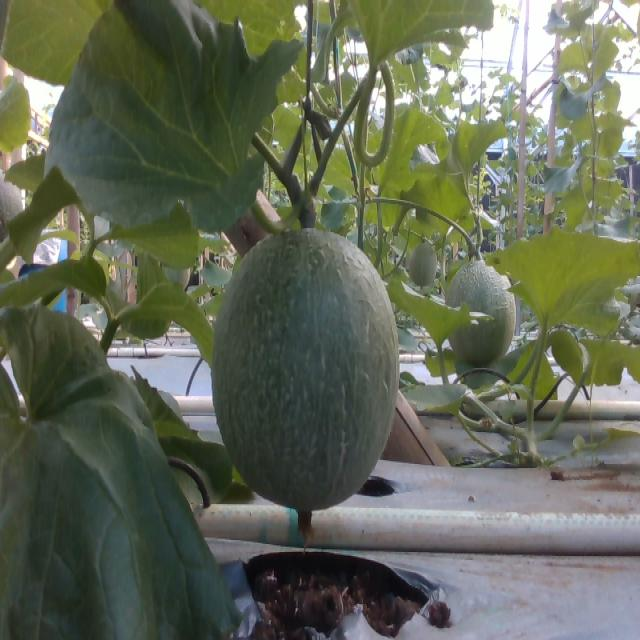melon: (212, 228, 399, 539)
